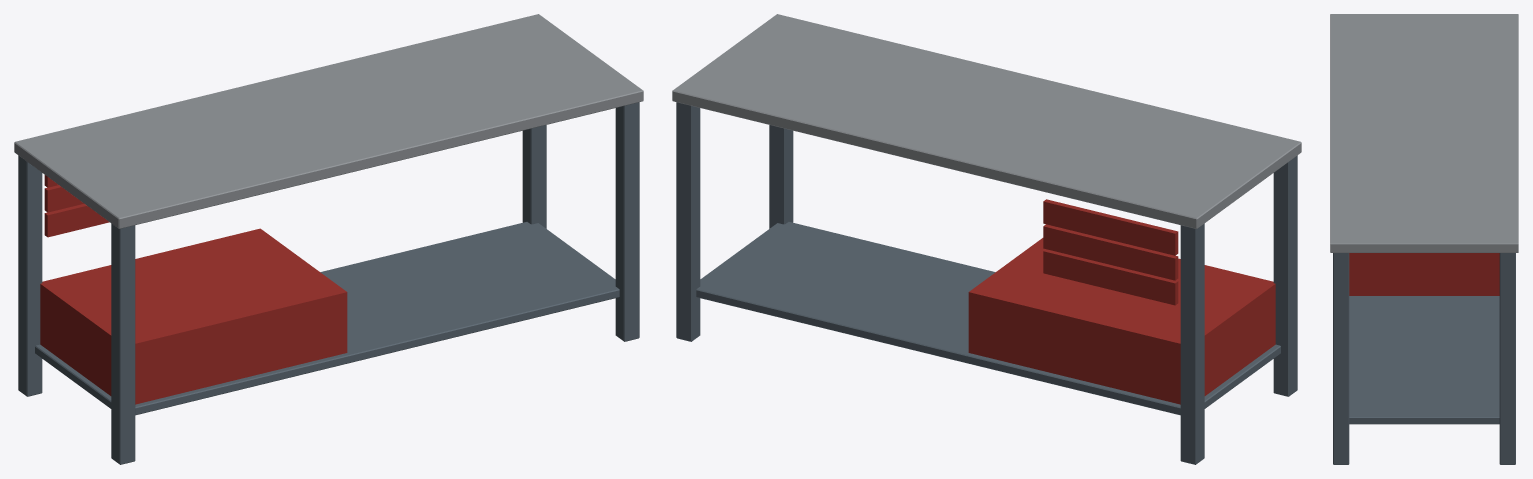
File: prop_counter_tool_w200.glb
3 views of the same model, side by side, from view 1: azimuth 30°, elevation 25°; view 2: azimuth 150°, elevation 25°; view 3: azimuth 270°, elevation 25° (orthographic). The views are drawn at different scales.
Parts seen in each view (by area): view 1: Counter; view 2: Counter; view 3: Counter.
Part boxes in pixels (x1,y1,x2,y2): Counter: (14, 14, 643, 464); Counter: (672, 14, 1301, 464); Counter: (1330, 14, 1518, 464).
Size of what is drawn, in the model's own units: 1.99 by 0.9 by 0.69.
